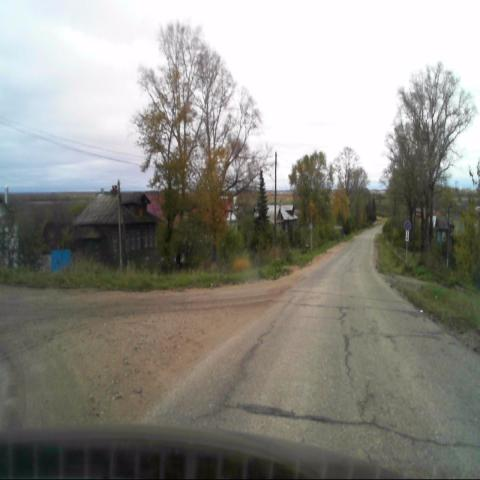3_27: (404, 217, 412, 230)
